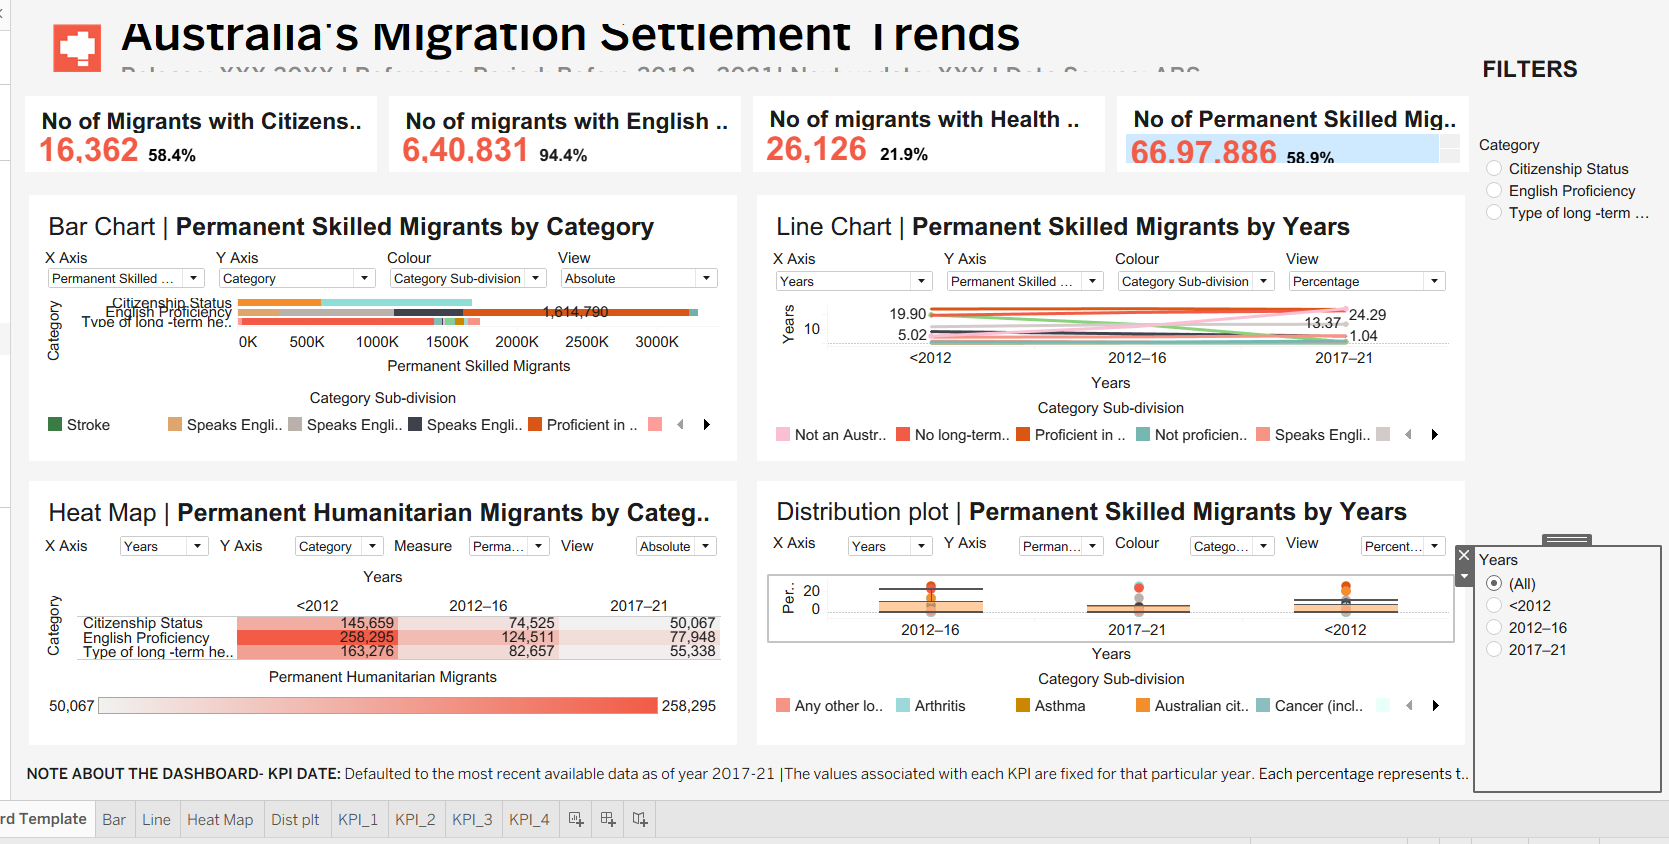

This screenshot's page, from the dashboard's own definition file:
{"tool":"tableau","page":{"name":"Dashboard Template","canvas":[1000,1000],"units":"permille","ordinal":0},"visuals":[{"type":"text","box":[883.6,10,111.6,157.3]},{"type":"image","param":"Image/SOCIAL QUEST (10).png","box":[18.1,27.5,43.4,69.9]},{"type":"text","box":[61.5,27.5,808.8,69.9]},{"type":"text","box":[777.3,123.1,202.6,27]},{"type":"text","box":[13.9,133.6,202,40]},{"type":"text","box":[234,133.6,201.4,40]},{"type":"text","box":[453.6,133.6,201.4,36.2]},{"type":"text","box":[673.1,133.6,201.4,36.2]},{"type":"filter","title":"Bar","param":"[federated.0oskc5f167w8861bm4ybn0nj9b2n].[none:Category:nk]","box":[883.6,167.3,111.6,517.6]},{"type":"worksheet","title":"KPI_3","mark":"Automatic","box":[453.6,169.8,201.4,36.2]},{"type":"worksheet","title":"KPI_4","mark":"Automatic","box":[673.1,169.8,201.4,36.2]},{"type":"worksheet","title":"KPI_1","mark":"Automatic","box":[13.9,173.5,202,32.5]},{"type":"worksheet","title":"KPI_2","mark":"Automatic","box":[234,173.5,201.4,32.5]},{"type":"text","box":[487.9,218.1,159.5,27]},{"type":"text","box":[18.1,260.9,413.1,47.4]},{"type":"text","box":[457.8,260.9,412.5,48.7]},{"type":"parameter","param":"[Parameters].[{Bar X} (copy)_731834986485379072]","box":[18.1,308.4,103.3,61.2]},{"type":"parameter","param":"[Parameters].[Parameter 1]","box":[121.4,308.4,103.3,61.2]},{"type":"parameter","param":"[Parameters].[{Bar Y} (copy)_731834986485813249]","box":[224.7,308.4,103.3,61.2]},{"type":"parameter","param":"[Parameters].[{Bar Y} (copy) - Color (copy)_731834986485919746]","box":[327.9,308.4,103.3,61.2]},{"type":"parameter","param":"[Parameters].[Y Axis (Bar) (copy)_2101492228960190467]","box":[457.8,309.6,103.1,68.7]},{"type":"parameter","param":"[Parameters].[X Axis (Bar) (copy)_2101492228960358404]","box":[560.9,309.6,103.1,68.7]},{"type":"parameter","param":"[Parameters].[Colour (Bar) (copy)_2101492228960571398]","box":[664,309.6,103.1,68.7]},{"type":"parameter","param":"[Parameters].[Bar View Mode (copy)_2101492228960456709]","box":[767.2,309.6,103.1,68.7]},{"type":"text","box":[18.1,369.5,19.3,94.9]},{"type":"worksheet","title":"Bar","mark":"Automatic","rows":["Calculation_2101492228939501568"],"cols":["Calculation_2101492228944277505"],"box":[37.4,369.5,393.8,113.6]},{"type":"worksheet","title":"Line","mark":"Line","rows":["Select Dimension X Bar (copy)_2101492228961038344"],"cols":["Select Dimension Y Bar (copy)_2101492228960661511"],"box":[457.8,378.3,412.5,86.1]},{"type":"text","box":[457.8,464.4,412.5,31.2]},{"type":"text","box":[18.1,483.2,413.1,31.2]},{"type":"text","box":[457.8,495.6,412.5,31.2]},{"type":"legend","title":"Bar","param":"[federated.0oskc5f167w8861bm4ybn0nj9b2n].[none:Select Dimension Y Bar (copy)_210","box":[18.1,514.4,413.1,35]},{"type":"legend","title":"Line","param":"[federated.0oskc5f167w8861bm4ybn0nj9b2n].[none:Colour Selector Bar (copy)_210149","box":[457.8,526.8,412.5,35]},{"type":"text","box":[18.1,617.8,412.5,48.7]},{"type":"text","box":[457.2,617.8,413.1,45]},{"type":"parameter","param":"[Parameters].[X Axis (Line) (copy)_2072500306678595621]","box":[457.2,662.8,103.3,58.7]},{"type":"parameter","param":"[Parameters].[Y Axis (Line) (copy)_2072500306678710310]","box":[560.5,662.8,103.3,58.7]},{"type":"parameter","param":"[Parameters].[Colour (Line) (copy)_2072500306678792231]","box":[663.7,662.8,103.3,58.7]},{"type":"parameter","param":"[Parameters].[Bar View Mode (copy)_2072500306678882344]","box":[767,662.8,103.3,58.7]},{"type":"parameter","param":"[Parameters].[Y Axis (Heat Map) (copy)_2072500306662842391]","box":[18.1,666.5,105.3,40]},{"type":"parameter","param":"[Parameters].[Y Axis (Bar) (copy)_2072500306662760470]","box":[123.4,666.5,105.3,40]},{"type":"parameter","param":"[Parameters].[Y Axis (Line) (copy)_2072500306662965272]","box":[228.8,666.5,100.9,40]},{"type":"parameter","param":"[Parameters].[Bar View Mode (copy)_2072500306663133209]","box":[329.7,666.5,100.9,40]},{"type":"filter","title":"KPI_1","param":"[federated.0oskc5f167w8861bm4ybn0nj9b2n].[none:Calculation_2101492229031591949:n","box":[883.6,684.9,111.6,305.1]},{"type":"text","box":[18.1,706.5,412.5,31.2]},{"type":"worksheet","title":"Dist plt","mark":"Circle","rows":["Select Dimension Y Line (copy)_2072500306679242795"],"cols":["Select Dimension X Line (copy)_2072500306678997033"],"box":[457.2,721.5,413.1,80.8]},{"type":"text","box":[18.1,741.4,19.3,89.9]},{"type":"worksheet","title":"Heat Map","mark":"Square","rows":["Heat Map X (copy)_2072500306663436315"],"cols":["Select Dimension X Line (copy)_2072500306663268378"],"box":[37.4,741.4,393.2,89.9]},{"type":"text","box":[457.2,802.3,413.1,31.2]},{"type":"text","box":[18.1,831.3,412.5,31.2]},{"type":"text","box":[457.2,833.5,413.1,31.2]},{"type":"legend","title":"Heat Map","param":"[federated.0oskc5f167w8861bm4ybn0nj9b2n].[usr:Calculation_2072500306664632349:qk","box":[18.1,862.5,412.5,54.6]},{"type":"legend","title":"Dist plt","param":"[federated.0oskc5f167w8861bm4ybn0nj9b2n].[none:Colour Selector Line (copy)_20725","box":[457.2,864.7,413.1,35]},{"type":"text","box":[4.8,944.6,878.8,45.4]}]}

Visuals, with their boxes on the dashboard's canvas, which has no fixed pixel size, in thousandths of its width and height (x1, y1, x2, y2). These are canvas units, not pixel positions in the 1669x844 screenshot, which may show the page scaled, cropped or inside an application window:
text: {"x1": 884, "y1": 10, "x2": 995, "y2": 167}
image: {"x1": 18, "y1": 28, "x2": 62, "y2": 97}
text: {"x1": 62, "y1": 28, "x2": 870, "y2": 97}
text: {"x1": 777, "y1": 123, "x2": 980, "y2": 150}
text: {"x1": 14, "y1": 134, "x2": 216, "y2": 174}
text: {"x1": 234, "y1": 134, "x2": 435, "y2": 174}
text: {"x1": 454, "y1": 134, "x2": 655, "y2": 170}
text: {"x1": 673, "y1": 134, "x2": 874, "y2": 170}
"Bar" filter: {"x1": 884, "y1": 167, "x2": 995, "y2": 685}
"KPI_3" worksheet: {"x1": 454, "y1": 170, "x2": 655, "y2": 206}
"KPI_4" worksheet: {"x1": 673, "y1": 170, "x2": 874, "y2": 206}
"KPI_1" worksheet: {"x1": 14, "y1": 174, "x2": 216, "y2": 206}
"KPI_2" worksheet: {"x1": 234, "y1": 174, "x2": 435, "y2": 206}
text: {"x1": 488, "y1": 218, "x2": 647, "y2": 245}
text: {"x1": 18, "y1": 261, "x2": 431, "y2": 308}
text: {"x1": 458, "y1": 261, "x2": 870, "y2": 310}
parameter: {"x1": 18, "y1": 308, "x2": 121, "y2": 370}
parameter: {"x1": 121, "y1": 308, "x2": 225, "y2": 370}
parameter: {"x1": 225, "y1": 308, "x2": 328, "y2": 370}
parameter: {"x1": 328, "y1": 308, "x2": 431, "y2": 370}
parameter: {"x1": 458, "y1": 310, "x2": 561, "y2": 378}
parameter: {"x1": 561, "y1": 310, "x2": 664, "y2": 378}
parameter: {"x1": 664, "y1": 310, "x2": 767, "y2": 378}
parameter: {"x1": 767, "y1": 310, "x2": 870, "y2": 378}
text: {"x1": 18, "y1": 370, "x2": 37, "y2": 464}
"Bar" worksheet: {"x1": 37, "y1": 370, "x2": 431, "y2": 483}
"Line" worksheet (Line marks): {"x1": 458, "y1": 378, "x2": 870, "y2": 464}
text: {"x1": 458, "y1": 464, "x2": 870, "y2": 496}
text: {"x1": 18, "y1": 483, "x2": 431, "y2": 514}
text: {"x1": 458, "y1": 496, "x2": 870, "y2": 527}
"Bar" legend: {"x1": 18, "y1": 514, "x2": 431, "y2": 549}
"Line" legend: {"x1": 458, "y1": 527, "x2": 870, "y2": 562}
text: {"x1": 18, "y1": 618, "x2": 431, "y2": 666}
text: {"x1": 457, "y1": 618, "x2": 870, "y2": 663}
parameter: {"x1": 457, "y1": 663, "x2": 560, "y2": 722}
parameter: {"x1": 560, "y1": 663, "x2": 664, "y2": 722}
parameter: {"x1": 664, "y1": 663, "x2": 767, "y2": 722}
parameter: {"x1": 767, "y1": 663, "x2": 870, "y2": 722}
parameter: {"x1": 18, "y1": 666, "x2": 123, "y2": 706}
parameter: {"x1": 123, "y1": 666, "x2": 229, "y2": 706}
parameter: {"x1": 229, "y1": 666, "x2": 330, "y2": 706}
parameter: {"x1": 330, "y1": 666, "x2": 431, "y2": 706}
"KPI_1" filter: {"x1": 884, "y1": 685, "x2": 995, "y2": 990}
text: {"x1": 18, "y1": 706, "x2": 431, "y2": 738}
"Dist plt" worksheet (Circle marks): {"x1": 457, "y1": 722, "x2": 870, "y2": 802}
text: {"x1": 18, "y1": 741, "x2": 37, "y2": 831}
"Heat Map" worksheet (Square marks): {"x1": 37, "y1": 741, "x2": 431, "y2": 831}
text: {"x1": 457, "y1": 802, "x2": 870, "y2": 834}
text: {"x1": 18, "y1": 831, "x2": 431, "y2": 862}
text: {"x1": 457, "y1": 834, "x2": 870, "y2": 865}
"Heat Map" legend: {"x1": 18, "y1": 862, "x2": 431, "y2": 917}
"Dist plt" legend: {"x1": 457, "y1": 865, "x2": 870, "y2": 900}
text: {"x1": 5, "y1": 945, "x2": 884, "y2": 990}
